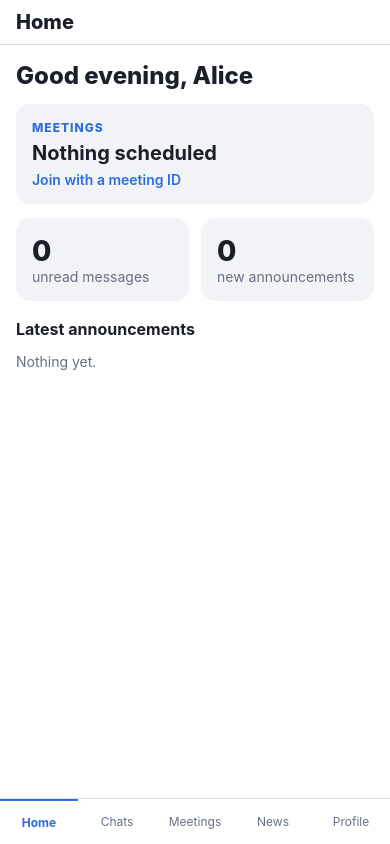
Test: New chat: a failure is explained and the form stays open
The image size is (390, 844).
expect the text "Good evening, Alice" is shown: met, box x1=16 y1=61 x2=253 y2=90
Click the tab with aria-label "Chats tab": [117, 822] box x1=101 y1=814 x2=133 y2=829
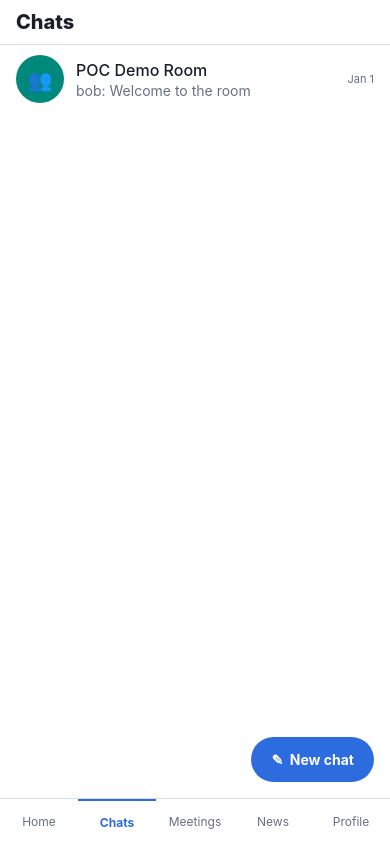
expect the text "POC Demo Room" is shown: met, box x1=76 y1=60 x2=207 y2=80
Click the text "✎ New chat": [313, 760] box x1=271 y1=751 x2=354 y2=768
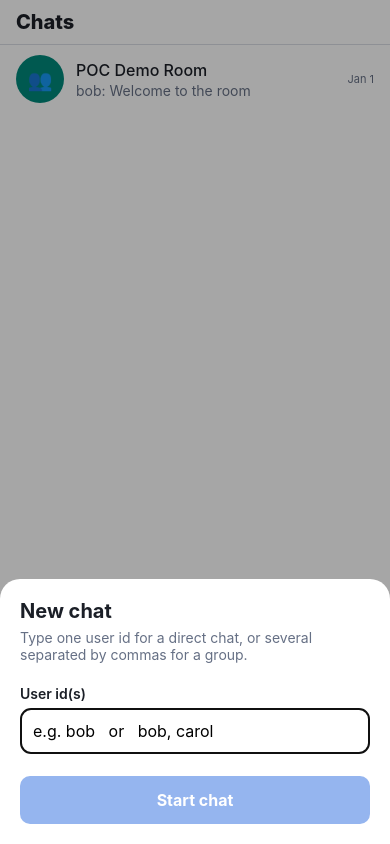
In the field with placeholder "e.g. bob or bob, carol": [195, 731] box x1=20 y1=708 x2=370 y2=754, type "nobody"
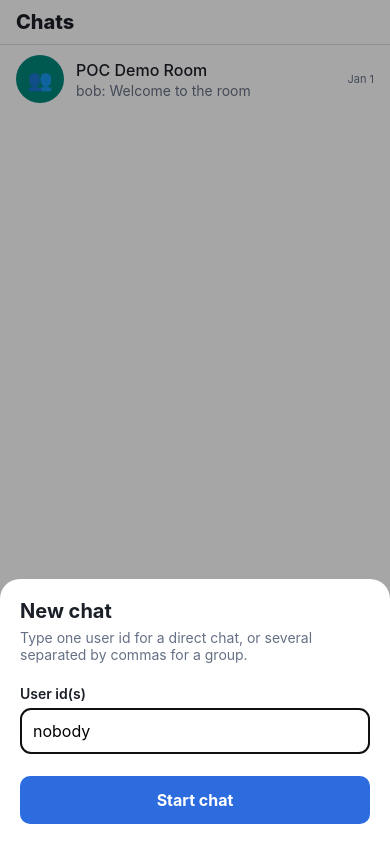
Click the text "Start chat": [195, 800] box x1=157 y1=790 x2=233 y2=810
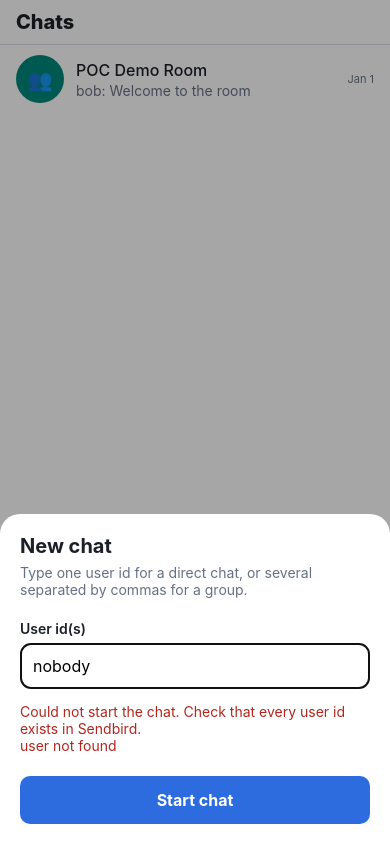
expect the text "Start chat" is shown: met, box x1=157 y1=790 x2=233 y2=810
expect the text "Could not start the chat" is shown: met, box x1=20 y1=703 x2=349 y2=754
